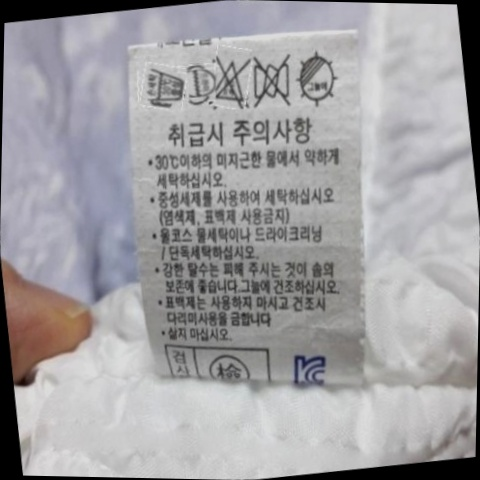DN_wring: (249, 52, 299, 108)
dry_clean: (182, 63, 217, 101)
hand_wash: (140, 60, 189, 108)
non_chlorine_bleach: (210, 53, 252, 107)
shade_dry: (292, 48, 345, 110)
